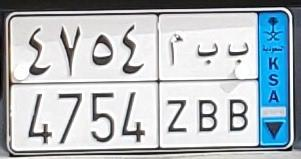4: (27, 26, 54, 144), (122, 23, 147, 143)
5: (90, 33, 117, 143)
7: (56, 25, 84, 144)
B: (226, 42, 251, 132), (195, 41, 218, 133)
Z: (167, 32, 187, 134)
